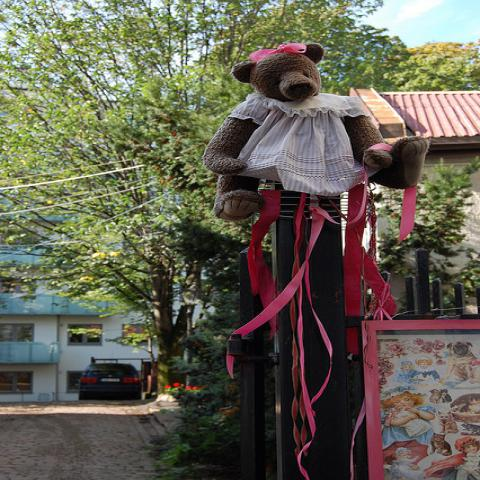car: (78, 364, 141, 399)
